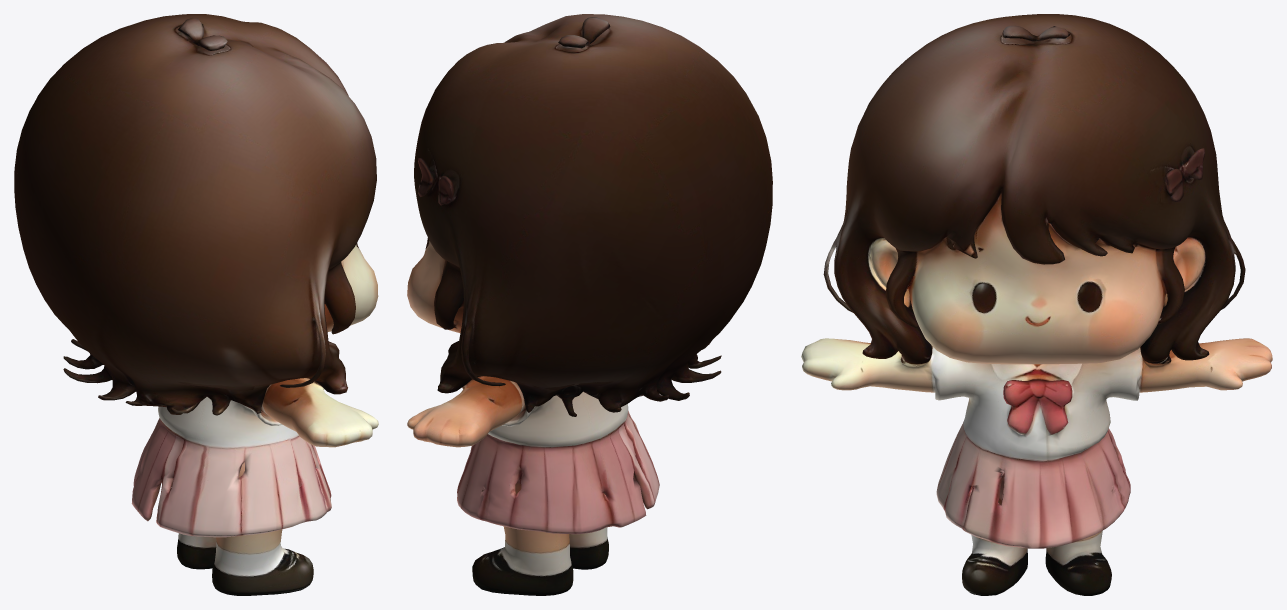
Rendered from girl.glb.
3 renders of one model, left to right at view 1: azimuth 30°, elevation 25°; view 2: azimuth 150°, elevation 25°; view 3: azimuth 270°, elevation 25°, orthographic. The views are drawn at different scales.
Visible parts, largest first — view 1: tripo_node_e503fa0d-757e-482a-b267-28246d5b05a0; view 2: tripo_node_e503fa0d-757e-482a-b267-28246d5b05a0; view 3: tripo_node_e503fa0d-757e-482a-b267-28246d5b05a0.
Part boxes in pixels (x1,y1,x2,y2): tripo_node_e503fa0d-757e-482a-b267-28246d5b05a0: [14, 14, 378, 595]; tripo_node_e503fa0d-757e-482a-b267-28246d5b05a0: [407, 14, 772, 595]; tripo_node_e503fa0d-757e-482a-b267-28246d5b05a0: [801, 14, 1272, 595].
Bounding box in the file's own units: 0.5801 × 0.9997 × 0.8026.
Materials: 1 (1 with a texture image).
